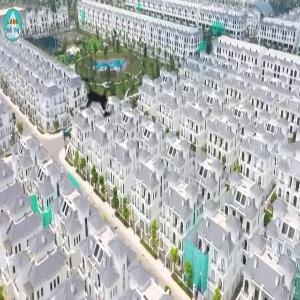drone: (48, 53, 142, 147)
